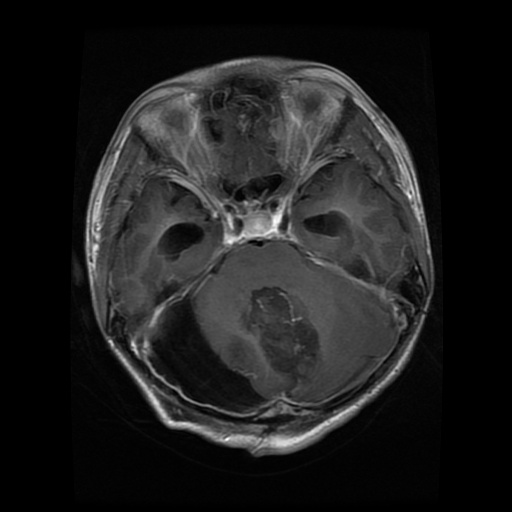glioma: (242, 284, 322, 375)
